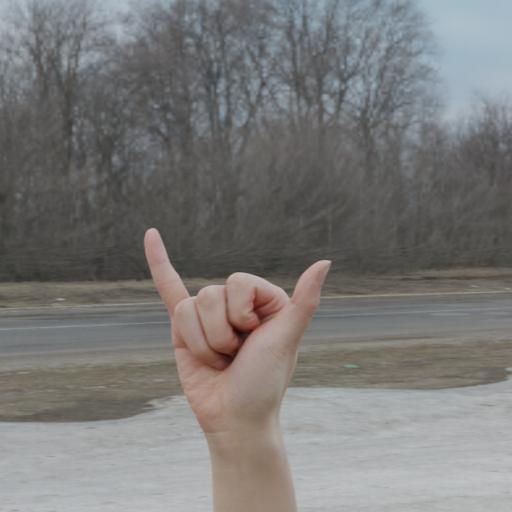Y: (139, 198, 333, 441)
